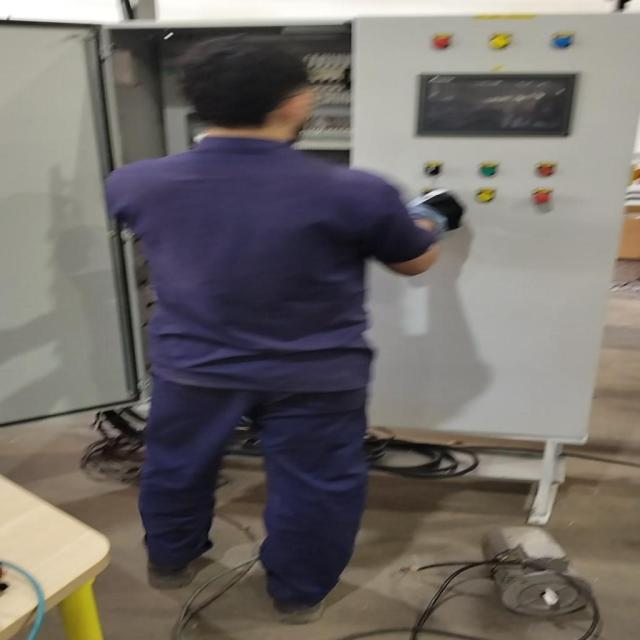Gloves-Detection: (419, 184, 461, 232)
